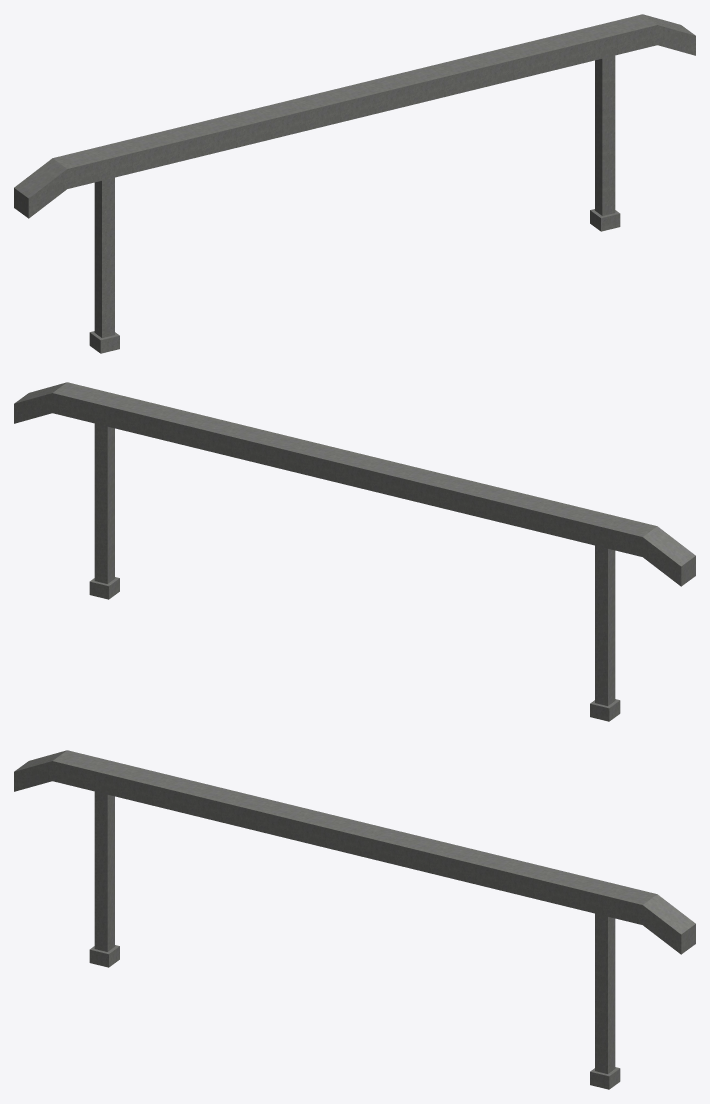
File: rails.obj
3 views of the same model, one above another, from view 1: azimuth 30°, elevation 25°; view 2: azimuth 150°, elevation 25°; view 3: azimuth 330°, elevation 25° (orthographic).
Size of the model in its own units: 104 by 29 by 4.
1 material, 1 textured.
